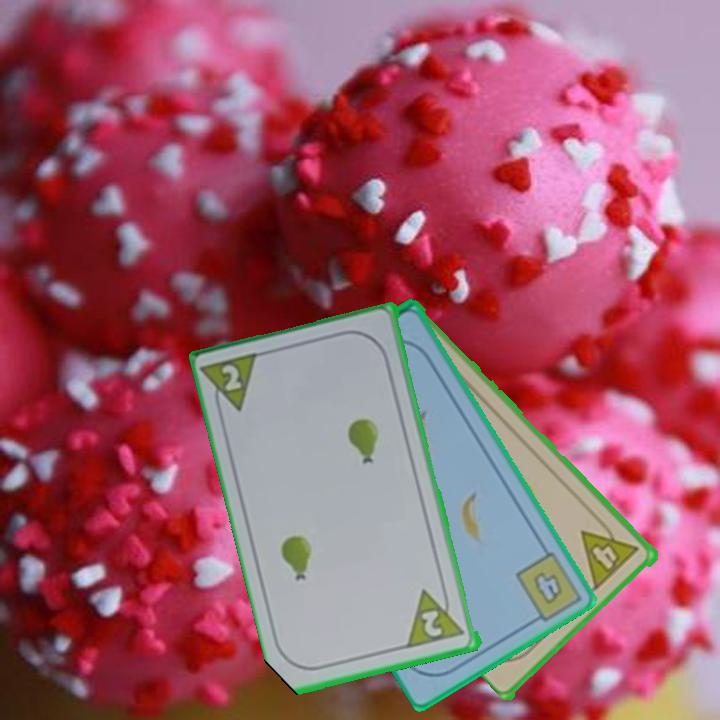2p: (200, 349, 265, 421), (418, 607, 446, 640)
4b: (512, 547, 582, 628)
4p: (578, 514, 643, 592)
